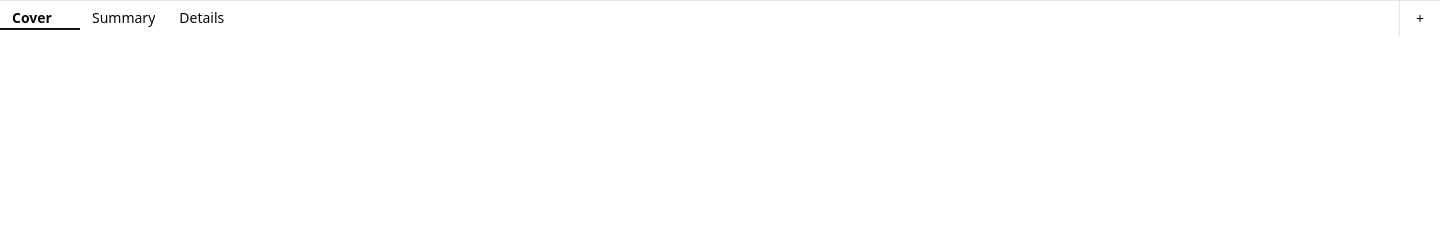
Test: PageTabBar › right-click opens context menu
This screenshot has width=1440, height=246.
Right-click the element with test id "page-tab-page-1": (40, 18) [0, 8, 80, 30]
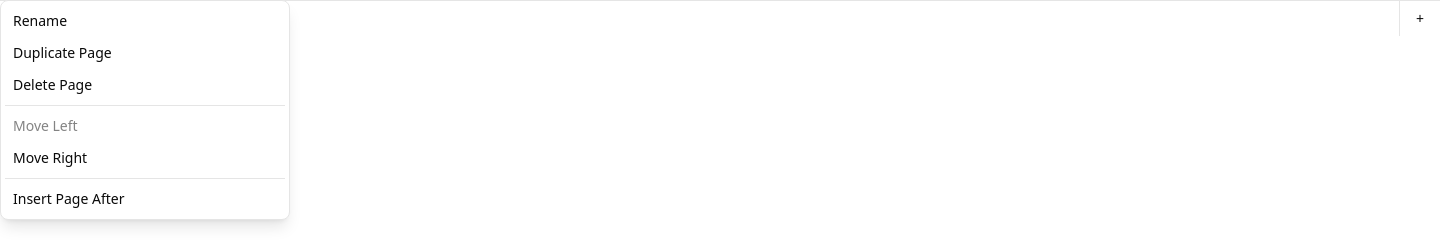
Expected: the element with test id "page-tab-context-menu" is shown, [0, 0, 290, 220]
